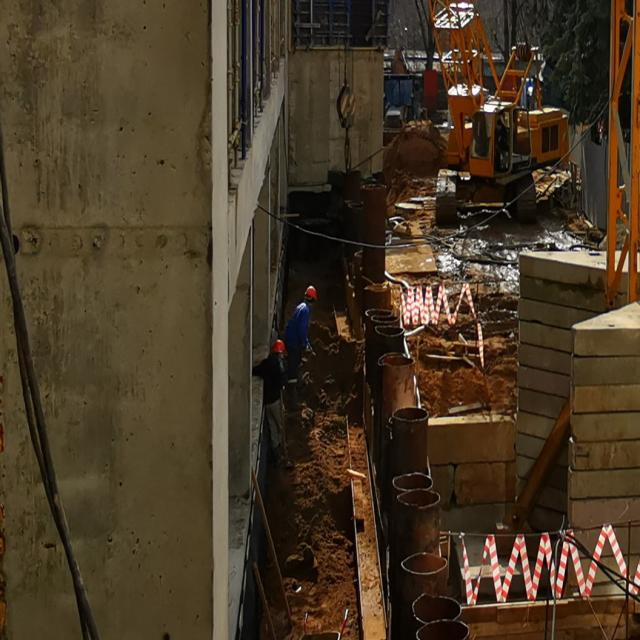Helmet: (274, 341, 288, 358), (306, 287, 319, 303)
NoJacket: (291, 304, 313, 351), (267, 357, 284, 406)
